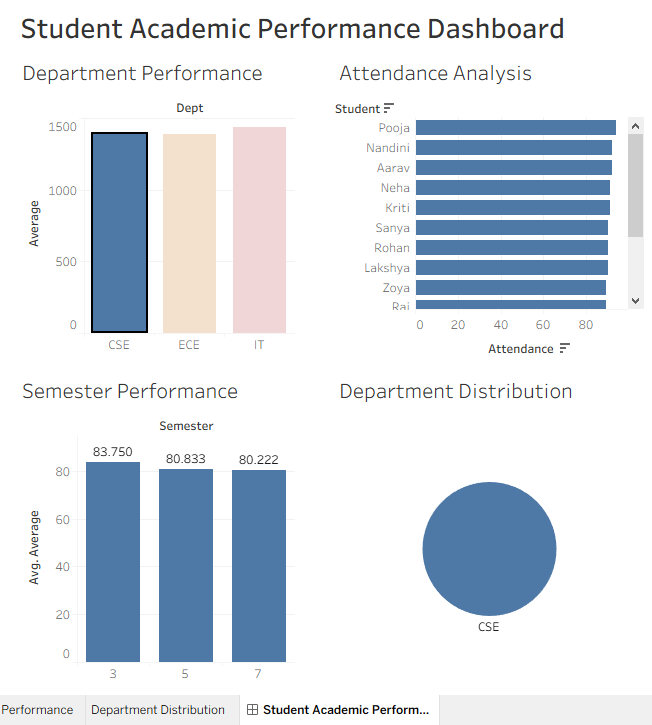

What the dashboard file says about the page in this screenshot:
{"tool":"tableau","page":{"name":"Student Academic Performance Dashboard","canvas":[1000,1000],"units":"permille","ordinal":0},"visuals":[{"type":"title","box":[12.3,14.3,975.4,80.4]},{"type":"worksheet","title":"Department Performance","mark":"Automatic","rows":["Average"],"cols":["Dept"],"box":[12.3,94.7,438.5,445.5]},{"type":"blank","box":[450.8,94.7,49.2,891.1]},{"type":"worksheet","title":"Attendance Analysis","mark":"Automatic","rows":["Student"],"cols":["Attendance"],"box":[500,94.7,487.7,445.5]},{"type":"worksheet","title":"Semester Performance","mark":"Automatic","rows":["Average"],"cols":["Semester"],"box":[12.3,540.1,438.5,445.6]},{"type":"worksheet","title":"Department Distribution","mark":"Pie","box":[500,540.1,487.7,445.6]}]}

Visuals, with their boxes on the dashboard's canvas, which has no fixed pixel size, in thousandths of its width and height (x1, y1, x2, y2). These are canvas units, not pixel positions in the 652x725 screenshot, which may show the page scaled, cropped or inside an application window:
title: (left=12, top=14, right=988, bottom=95)
"Department Performance" worksheet: (left=12, top=95, right=451, bottom=540)
blank: (left=451, top=95, right=500, bottom=986)
"Attendance Analysis" worksheet: (left=500, top=95, right=988, bottom=540)
"Semester Performance" worksheet: (left=12, top=540, right=451, bottom=986)
"Department Distribution" worksheet (Pie marks): (left=500, top=540, right=988, bottom=986)
